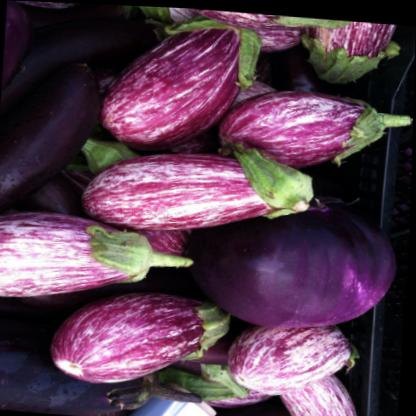--: (68, 142, 349, 245), (86, 3, 275, 153), (0, 192, 205, 313), (48, 280, 239, 393), (221, 78, 414, 172)
